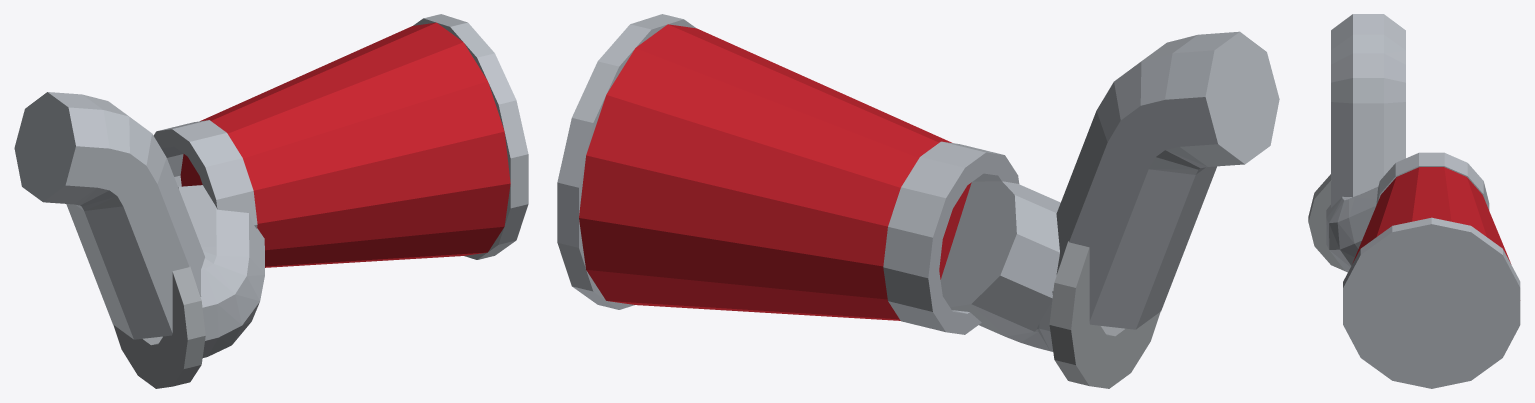
File: ridgeback_4x4.glb
3 renders of one model, left to right at view 1: azimuth 30°, elevation 25°; view 2: azimuth 150°, elevation 25°; view 3: azimuth 270°, elevation 25°, orthographic. The views are drawn at different scales.
Parts seen in each view (by area): view 1: model; view 2: model; view 3: model.
Boxes of the visible parts, box(x1,y1,x2,y2) form: model: box(14, 14, 528, 388); model: box(557, 14, 1279, 388); model: box(1308, 14, 1520, 388).
Size of the model in its own units: 0.32 by 0.1944 by 0.1672.
Materials: 2 (1 with a texture image).
